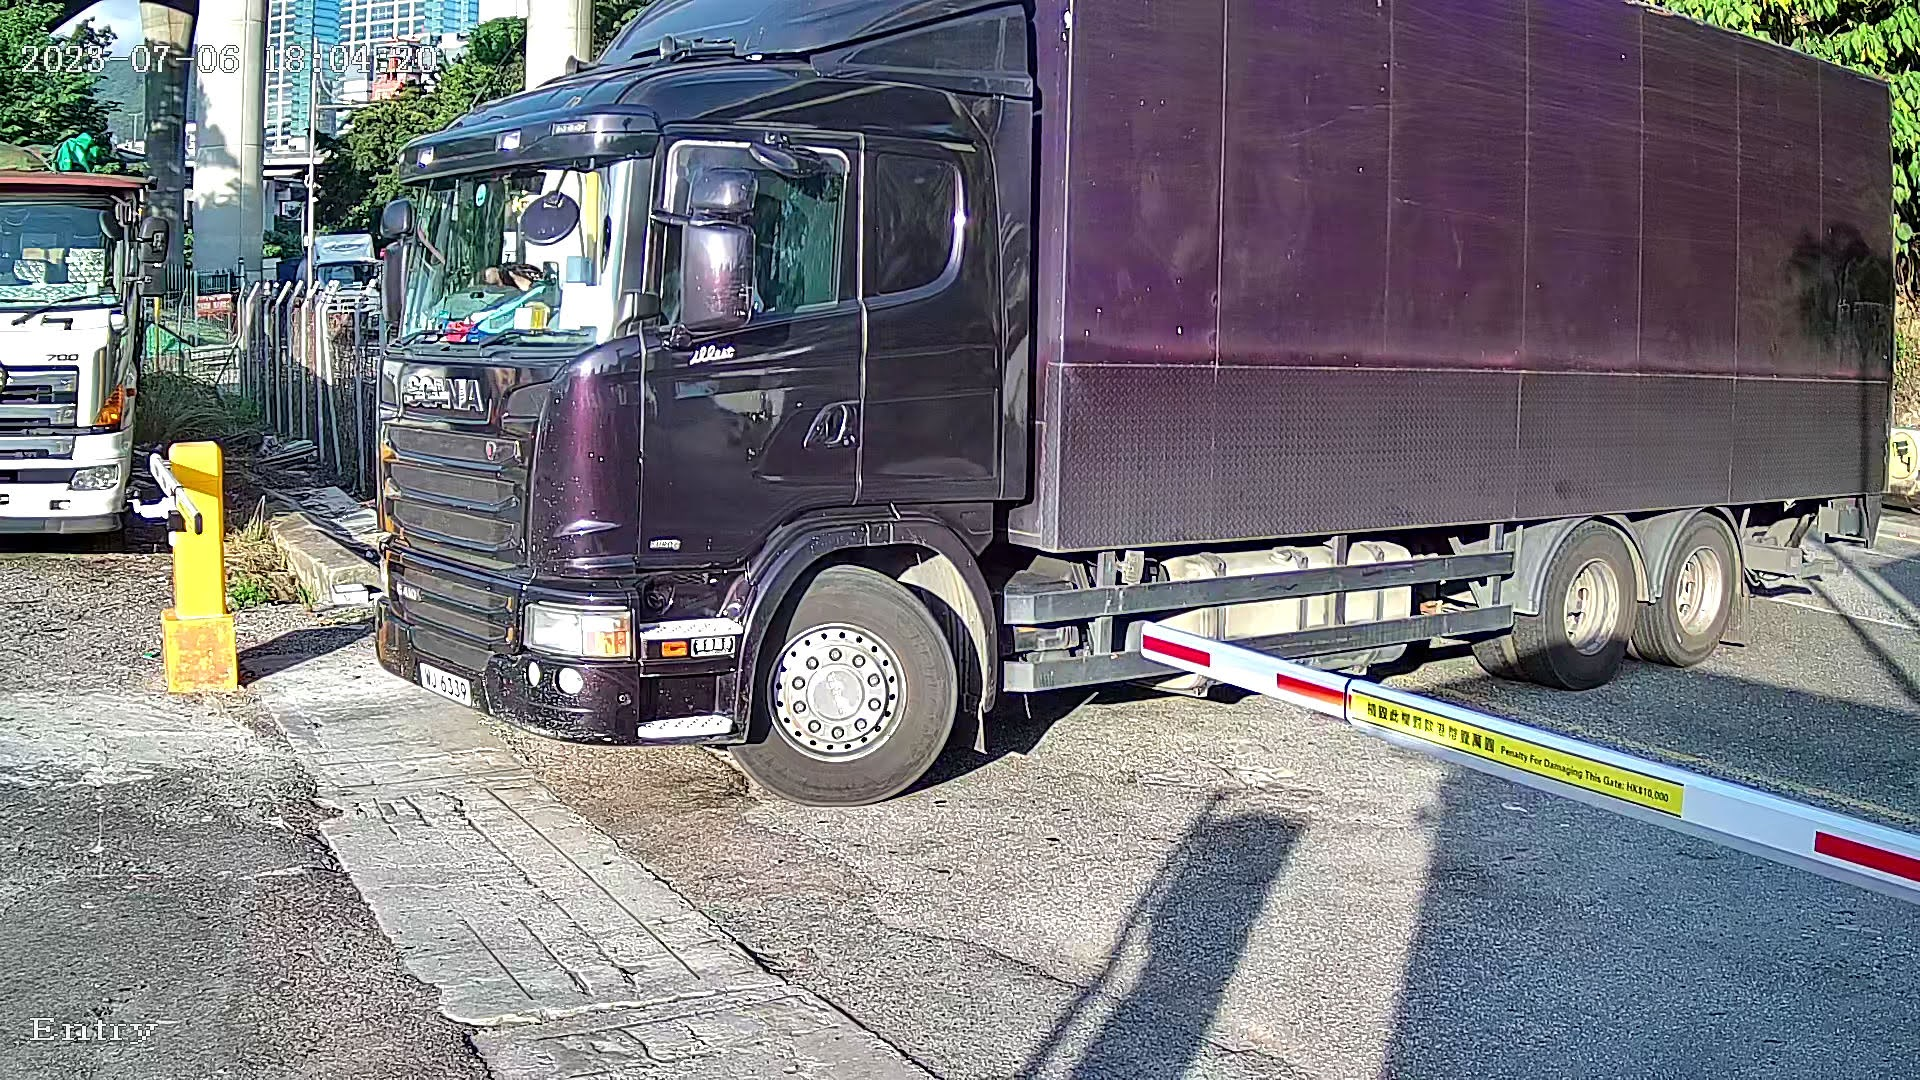truck: (349, 9, 1920, 845)
